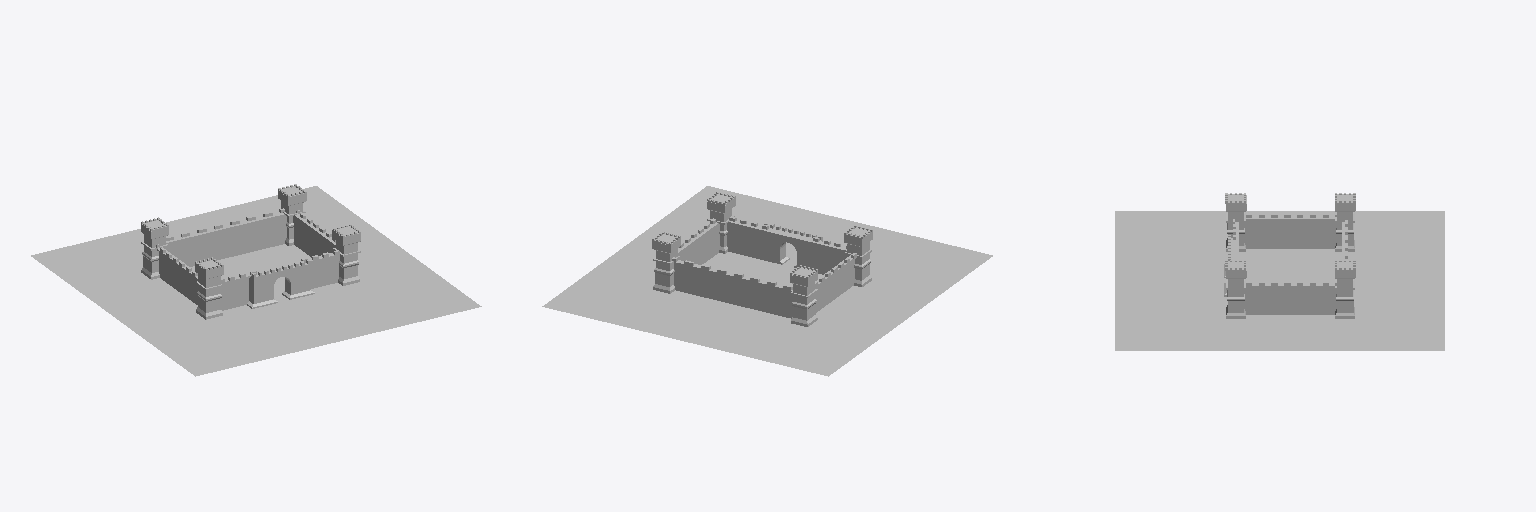
Rendered from castle2.obj.
3 views of the same model, side by side, from view 1: azimuth 30°, elevation 25°; view 2: azimuth 150°, elevation 25°; view 3: azimuth 270°, elevation 25° (orthographic).
Parts seen in each view (by area): view 1: Ground_Plane.007, CastleWalls_Plane, Gatehouse_Circle, Cornice_blocks_Plane.002, Tower4_Plane.003, Tower3_Plane.003, Tower2_Plane.003, Tower_1_Plane.003; view 2: Ground_Plane.007, CastleWalls_Plane, Gatehouse_Circle, Cornice_blocks_Plane.002, Tower2_Plane.003, Tower_1_Plane.003, Tower4_Plane.003, Tower3_Plane.003; view 3: Ground_Plane.007, CastleWalls_Plane, Cornice_blocks_Plane.002, Tower3_Plane.003, Tower_1_Plane.003, Tower2_Plane.003, Tower4_Plane.003.
Boxes of the visible parts, box(x1,y1,x2,y2) form: Ground_Plane.007: box(31, 186, 481, 376); CastleWalls_Plane: box(159, 216, 339, 310); Gatehouse_Circle: box(249, 261, 310, 303); Cornice_blocks_Plane.002: box(156, 208, 339, 282); Tower4_Plane.003: box(195, 264, 223, 319); Tower3_Plane.003: box(332, 230, 360, 285); Tower2_Plane.003: box(141, 225, 168, 279); Tower_1_Plane.003: box(278, 191, 306, 245); Ground_Plane.007: box(542, 186, 992, 376); CastleWalls_Plane: box(674, 223, 854, 318); Gatehouse_Circle: box(760, 226, 822, 269); Cornice_blocks_Plane.002: box(672, 216, 856, 290); Tower2_Plane.003: box(790, 272, 817, 326); Tower_1_Plane.003: box(652, 238, 680, 293); Tower4_Plane.003: box(844, 232, 872, 286); Tower3_Plane.003: box(707, 198, 735, 253); Ground_Plane.007: box(1115, 211, 1444, 350); CastleWalls_Plane: box(1244, 221, 1336, 314); Cornice_blocks_Plane.002: box(1233, 213, 1347, 285); Tower3_Plane.003: box(1226, 262, 1246, 318); Tower_1_Plane.003: box(1335, 271, 1355, 318); Tower2_Plane.003: box(1335, 204, 1355, 251); Tower4_Plane.003: box(1226, 195, 1246, 251).
Size of the model in its own units: 100 by 17.03 by 100.